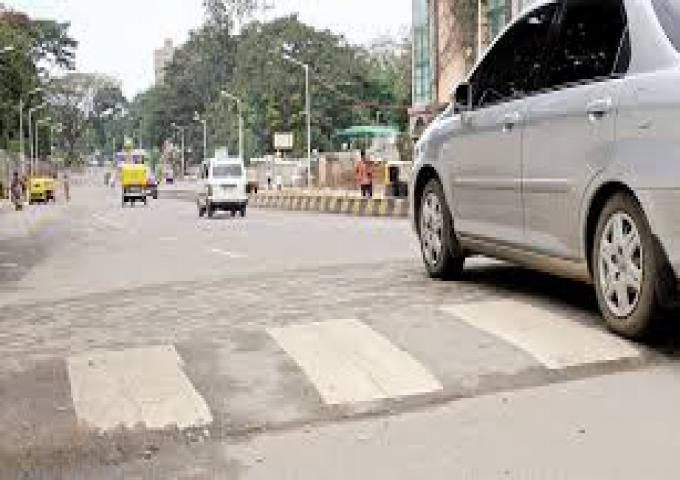Speed_Breaker: (0, 283, 680, 465), (0, 289, 673, 466)
